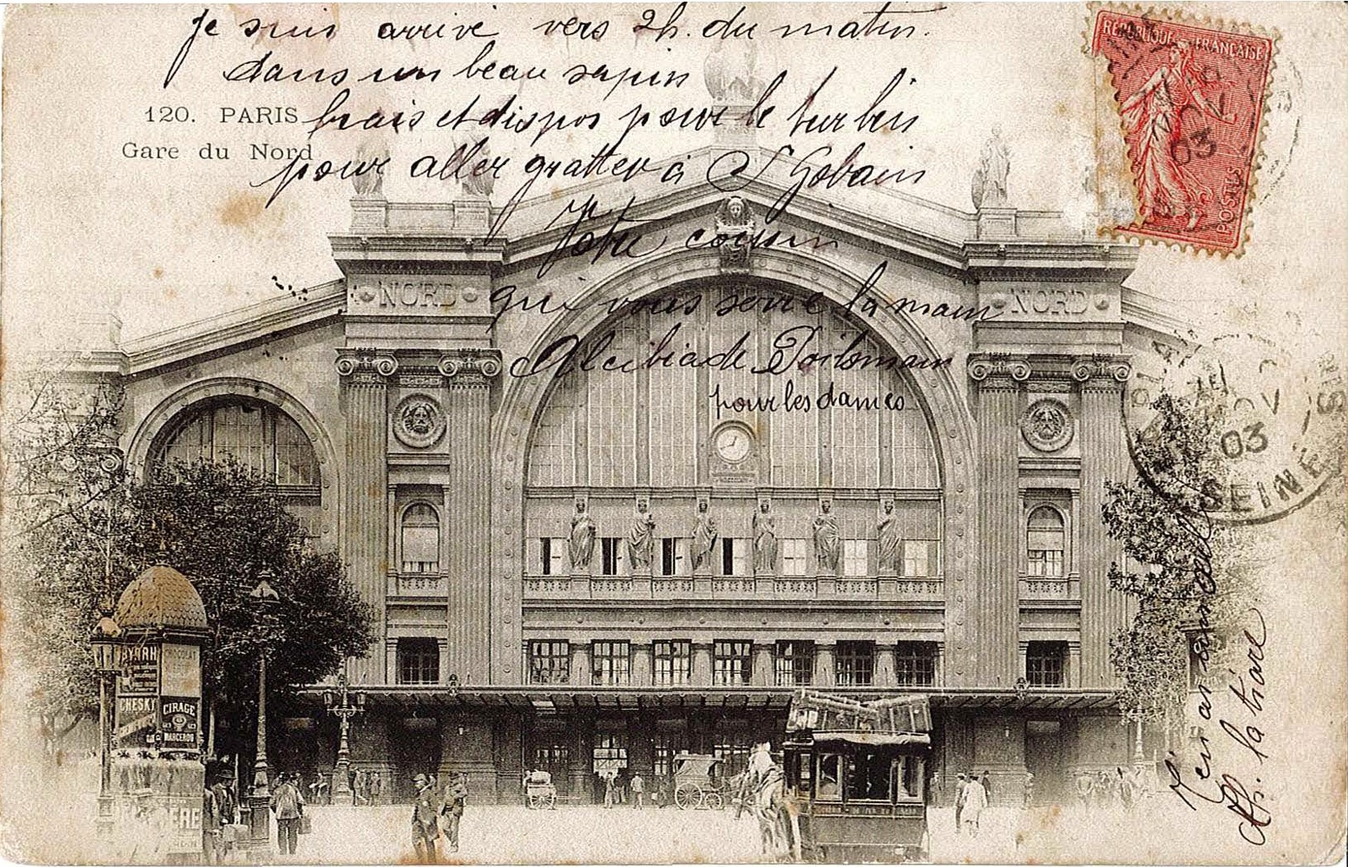fachada: (25, 48, 1238, 826)
poste: (238, 560, 303, 849), (320, 670, 371, 805)
